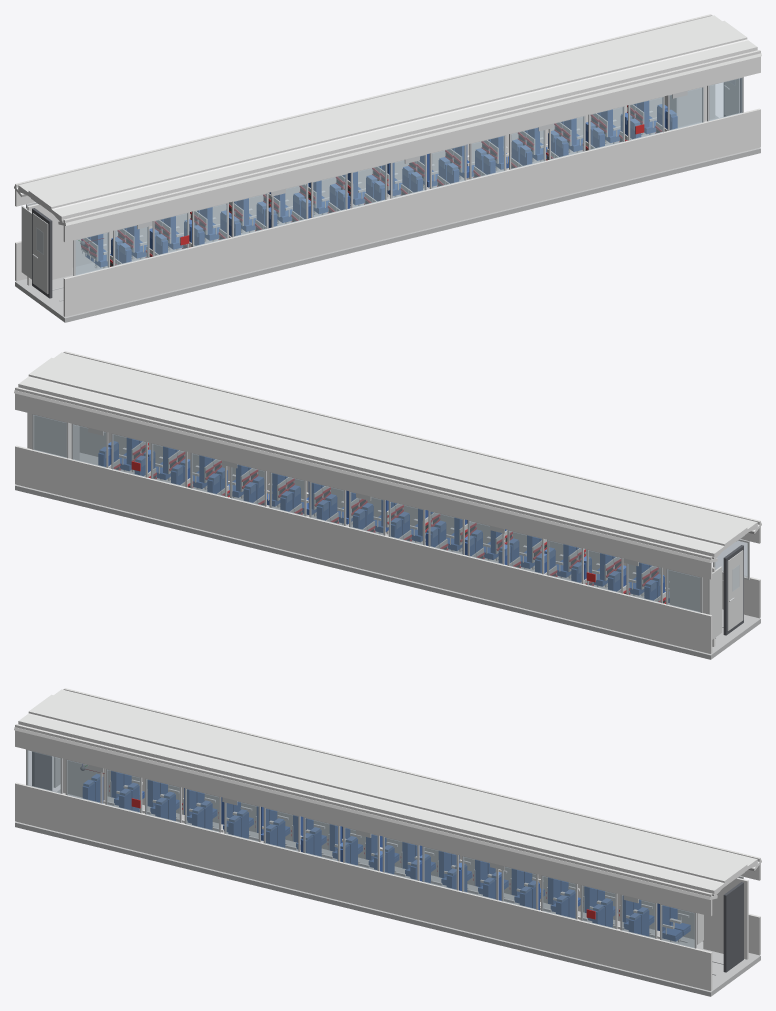
The model's file is coach.glb.
3 views of the same model, one above another, from view 1: azimuth 30°, elevation 25°; view 2: azimuth 150°, elevation 25°; view 3: azimuth 330°, elevation 25° (orthographic).
Visible parts, largest first — view 1: Lower_Side_Panel_-1, Ceiling_Center_Raised, Central_Ceiling, Upper_Side_Panel_-1, Coach_Floor, Lower_Side_Panel_1, Ceiling_Cove_-1, Upper_Side_Panel_1, Ceiling_Upward_Side_-1, REAR_SERVICE_Wall, Window_L_13, Window_L_07 (+20 smaller); view 2: Lower_Side_Panel_1, Ceiling_Center_Raised, Central_Ceiling, Upper_Side_Panel_1, Coach_Floor, Lower_Side_Panel_-1, Ceiling_Cove_1, Upper_Side_Panel_-1, Ceiling_Upward_Side_1, REAR_SERVICE_Wall, FRONT_SERVICE_Wall, Window_R_13 (+19 smaller); view 3: Lower_Side_Panel_-1, Ceiling_Center_Raised, Central_Ceiling, Upper_Side_Panel_-1, Coach_Floor, Lower_Side_Panel_1, Ceiling_Cove_-1, Upper_Side_Panel_1, FRONT_DoorFrame, FRONT_SERVICE_Wall, Ceiling_Upward_Side_-1, Window_L_04 (+18 smaller).
Boxes of the visible parts, x1,y1,x2,y2 form: Lower_Side_Panel_-1: (63,108,760,316); Ceiling_Center_Raised: (28,20,747,209); Central_Ceiling: (18,15,757,219); Upper_Side_Panel_-1: (63,50,760,242); Coach_Floor: (15,115,760,322); Lower_Side_Panel_1: (15,97,662,281); Ceiling_Cove_-1: (58,53,761,225); Upper_Side_Panel_1: (15,14,712,206); Ceiling_Upward_Side_-1: (50,39,747,222); REAR_SERVICE_Wall: (27,204,72,285); Window_L_13: (590,107,623,149); Window_L_07: (353,165,386,207); Lower_Side_Panel_1: (15,445,712,653); Ceiling_Center_Raised: (28,357,747,545); Central_Ceiling: (18,352,757,556); Upper_Side_Panel_1: (15,387,712,579); Coach_Floor: (15,452,760,659); Lower_Side_Panel_-1: (79,426,760,618); Ceiling_Cove_1: (14,390,717,562); Upper_Side_Panel_-1: (63,351,760,543); Ceiling_Upward_Side_1: (28,376,725,559); REAR_SERVICE_Wall: (669,567,715,646); FRONT_SERVICE_Wall: (27,413,65,456); Window_R_13: (152,444,185,486); Lower_Side_Panel_-1: (15,782,712,990); Ceiling_Center_Raised: (28,694,747,882); Central_Ceiling: (18,689,757,893); Upper_Side_Panel_-1: (15,724,712,916); Coach_Floor: (15,789,760,996); Lower_Side_Panel_1: (107,770,760,955); Ceiling_Cove_-1: (14,727,717,899); Upper_Side_Panel_1: (63,688,760,880); FRONT_DoorFrame: (723,882,743,972); FRONT_SERVICE_Wall: (703,878,748,959); Ceiling_Upward_Side_-1: (28,713,725,896); Window_L_04: (185,789,218,832).
Bounding box in the file's own units: 26.03 × 3.77 × 3.37.
